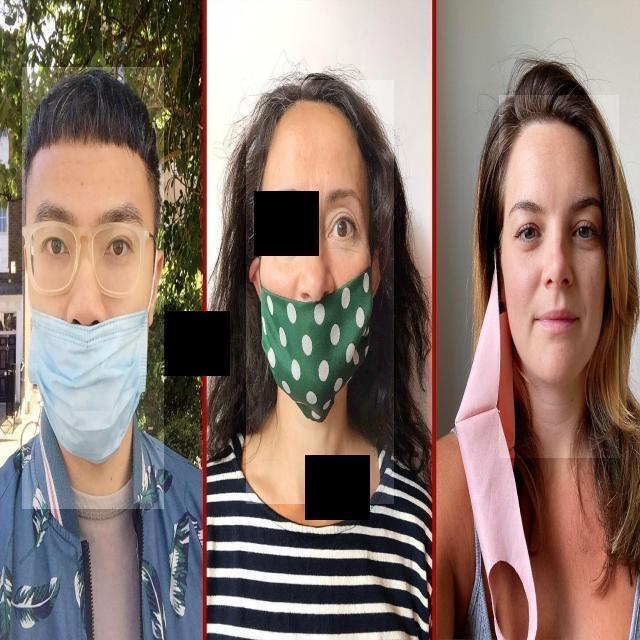hairnet: (22, 278, 157, 471), (247, 252, 381, 433)
no_gloves: (468, 61, 616, 218), (20, 67, 158, 226), (233, 61, 390, 200)
no_hairnet: (499, 245, 609, 390)
